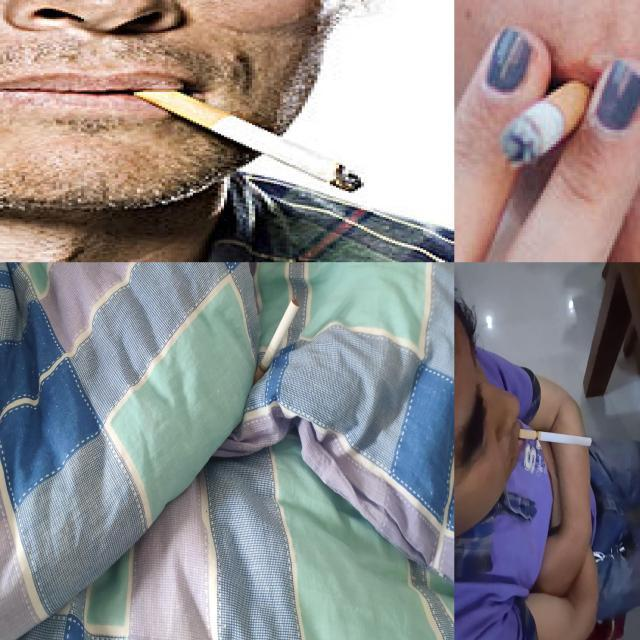smoking: (134, 82, 366, 194), (502, 78, 592, 165), (248, 298, 301, 392), (518, 430, 594, 447)
